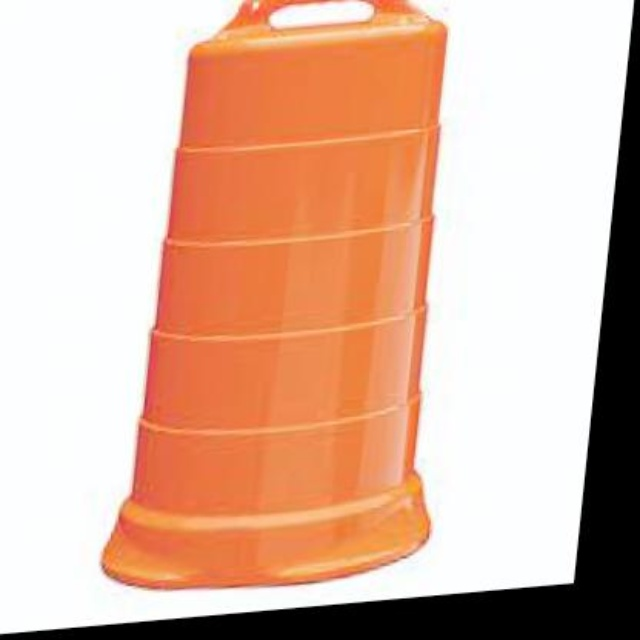obstacle: (111, 0, 523, 553)
